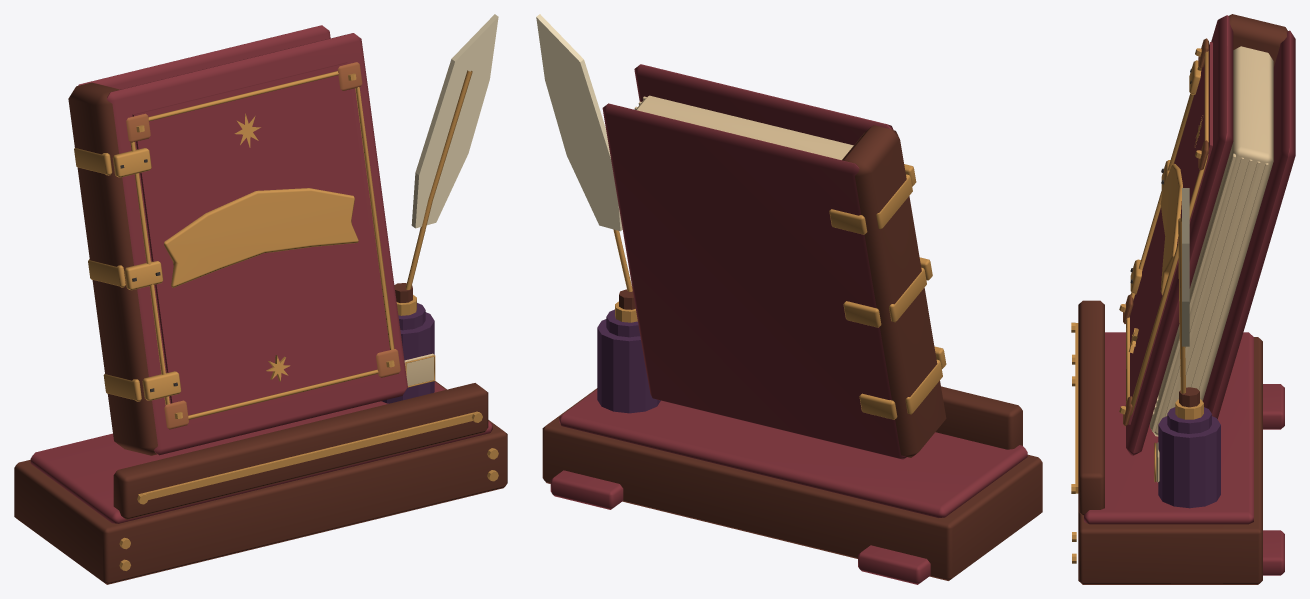
Rendered from Creditos.fbx.
3 renders of one model, left to right at view 1: azimuth 30°, elevation 25°; view 2: azimuth 150°, elevation 25°; view 3: azimuth 270°, elevation 25°, orthographic. The views are drawn at different scales.
Visible parts, largest first — view 1: CR_Tapa_trasera, CR_Labio_delantero, CR_Lomo_reforzado, CR_Banner_Creditos_Base, CR_Vexilo_pluma, CR_Pie_soporte.001, CR_Banda_lomo_trasera_02, CR_Borde_tapa_latón, CR_Clavo_base.002, CR_Escuadra_de_esquina, CR_Tintero_hombro, CR_Canon_pluma (+1 smaller); view 2: CR_Tapa_trasera, CR_Labio_delantero, CR_Pie_soporte.001, CR_Lomo_reforzado, CR_Vexilo_pluma, CR_Banda_lomo_trasera_02, CR_Tintero_hombro, CR_Bloque_de_hojas; view 3: CR_Tapa_trasera, CR_Labio_delantero, CR_Pie_soporte.001, CR_Bloque_de_hojas, CR_Tintero_hombro, CR_Borde_tapa_latón, CR_Banner_Creditos_Base, CR_Lomo_reforzado, CR_Vexilo_pluma, CR_Clavo_base.002, CR_Escuadra_de_esquina, CR_Banda_lomo_trasera_02 (+3 smaller).
Boxes of the visible parts, <box> form: CR_Tapa_trasera: <box>78,25,407,455</box>; CR_Labio_delantero: <box>14,381,507,584</box>; CR_Lomo_reforzado: <box>68,82,157,455</box>; CR_Banner_Creditos_Base: <box>164,188,358,287</box>; CR_Vexilo_pluma: <box>411,14,498,228</box>; CR_Pie_soporte.001: <box>30,382,492,523</box>; CR_Banda_lomo_trasera_02: <box>74,148,181,401</box>; CR_Borde_tapa_latón: <box>130,71,394,419</box>; CR_Clavo_base.002: <box>119,411,498,570</box>; CR_Escuadra_de_esquina: <box>126,62,400,429</box>; CR_Tintero_hombro: <box>381,303,434,403</box>; CR_Canon_pluma: <box>405,70,472,289</box>; CR_Tapa_trasera: <box>602,64,906,459</box>; CR_Labio_delantero: <box>542,386,1042,580</box>; CR_Pie_soporte.001: <box>550,389,1027,584</box>; CR_Lomo_reforzado: <box>842,125,946,457</box>; CR_Vexilo_pluma: <box>536,14,622,231</box>; CR_Banda_lomo_trasera_02: <box>829,164,946,419</box>; CR_Tintero_hombro: <box>597,309,660,413</box>; CR_Bloque_de_hojas: <box>634,95,853,159</box>; CR_Tapa_trasera: <box>1126,15,1295,455</box>; CR_Labio_delantero: <box>1078,300,1262,584</box>; CR_Pie_soporte.001: <box>1084,332,1284,575</box>; CR_Bloque_de_hojas: <box>1150,46,1273,436</box>; CR_Tintero_hombro: <box>1158,407,1220,508</box>; CR_Borde_tapa_latón: <box>1126,51,1208,415</box>; CR_Banner_Creditos_Base: <box>1160,163,1182,294</box>; CR_Lomo_reforzado: <box>1229,14,1287,66</box>; CR_Vexilo_pluma: <box>1182,188,1189,346</box>; CR_Clavo_base.002: <box>1071,322,1078,563</box>; CR_Escuadra_de_esquina: <box>1123,38,1208,426</box>; CR_Banda_lomo_trasera_02: <box>1130,60,1201,294</box>.
Size of the model in its own units: 171 by 155 by 75.18.
